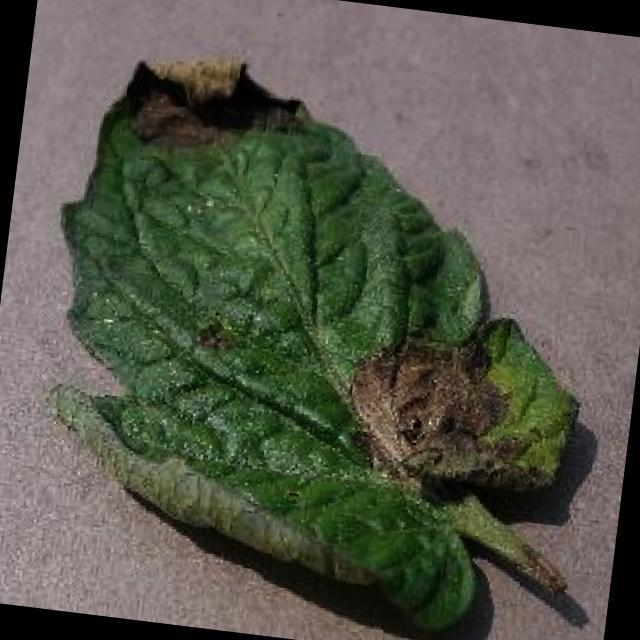Tomato late blight leaf: (14, 40, 616, 640)
